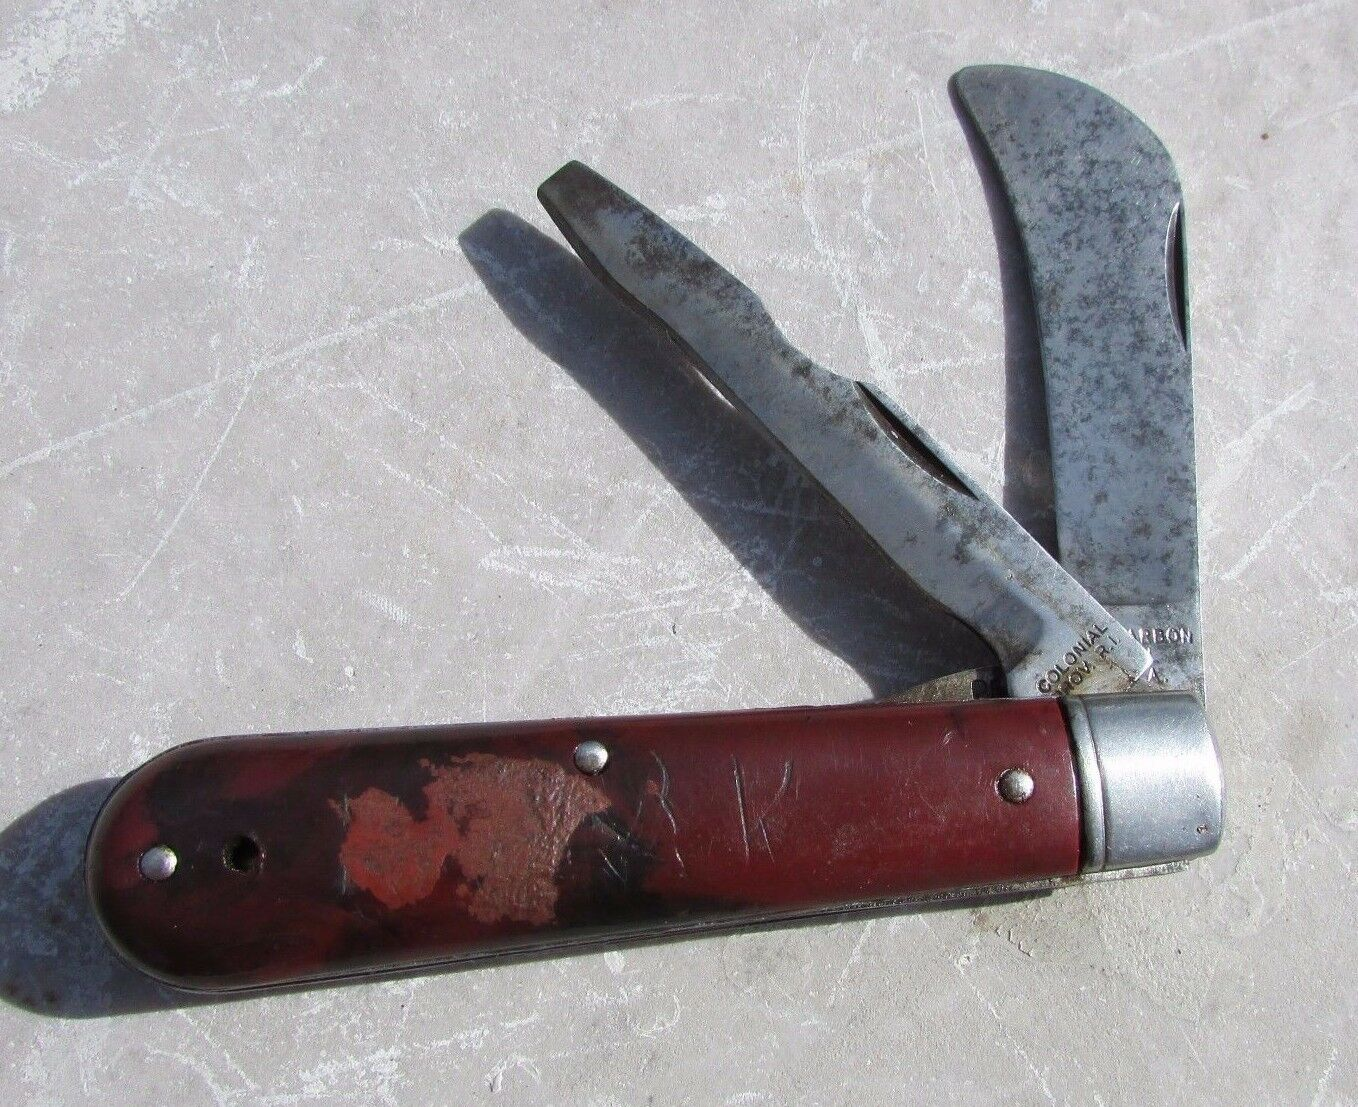knief: (82, 109, 1291, 943)
